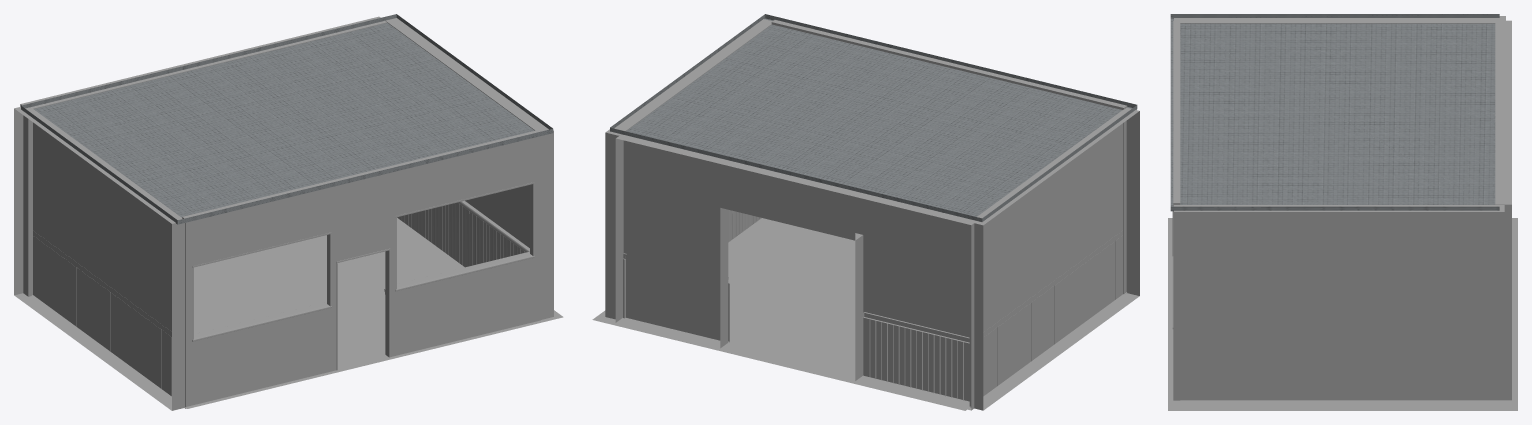
The model's file is dinignroom_walls.fbx.
3 renders of one model, left to right at view 1: azimuth 30°, elevation 25°; view 2: azimuth 150°, elevation 25°; view 3: azimuth 270°, elevation 25°, orthographic. The views are drawn at different scales.
Visible parts, largest first — view 1: polySurface411, polySurface401, polySurface409; view 2: polySurface411, polySurface401, polySurface409; view 3: polySurface411, polySurface401, polySurface409.
Part boxes in pixels (x1,y1,x2,y2): polySurface411: [14, 16, 553, 410]; polySurface401: [21, 14, 553, 224]; polySurface409: [32, 218, 563, 408]; polySurface411: [605, 19, 1139, 410]; polySurface401: [610, 14, 1137, 221]; polySurface409: [592, 218, 1126, 410]; polySurface411: [1172, 16, 1511, 400]; polySurface401: [1170, 14, 1499, 211]; polySurface409: [1168, 218, 1517, 410].
Size of the model in its own units: 28.3 by 13.32 by 20.97.
